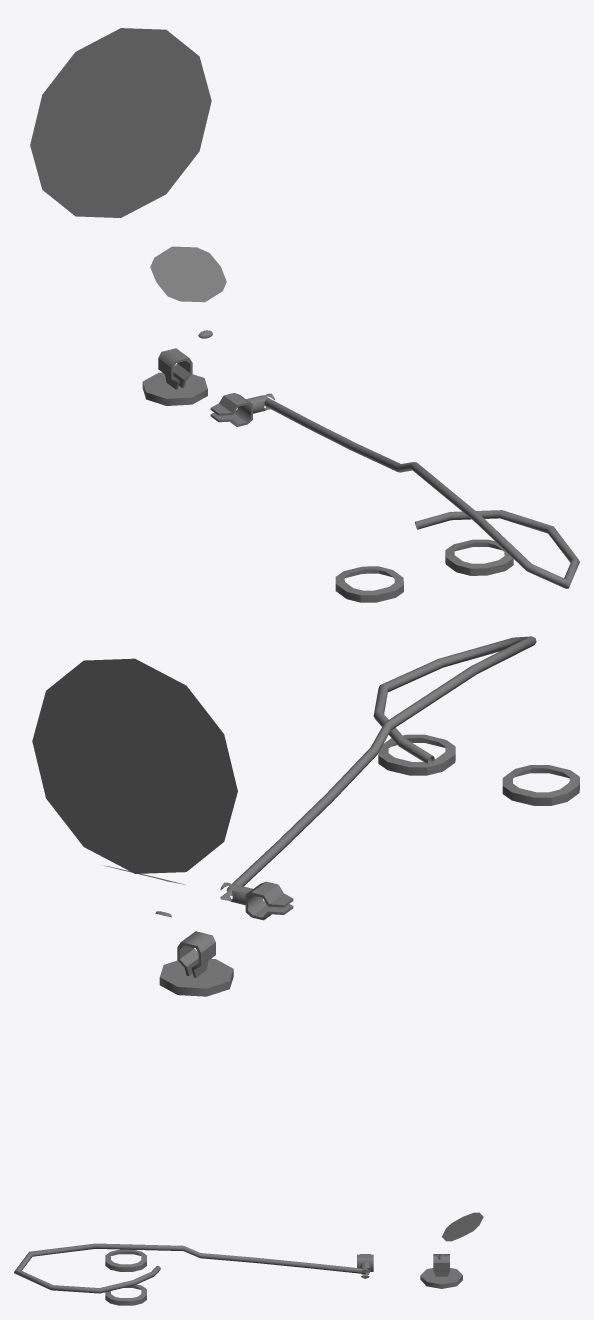
Rendered from Fit_HuaSa_1X6_off.FBX.
3 views of the same model, one above another, from view 1: azimuth 30°, elevation 25°; view 2: azimuth 150°, elevation 25°; view 3: azimuth 270°, elevation 25° (orthographic). The views are drawn at different scales.
Parts seen in each view (by area): view 1: Box002; view 2: Box002; view 3: Box002.
Part boxes in pixels (x1,y1,x2,y2): Box002: [30, 28, 579, 602]; Box002: [32, 636, 579, 996]; Box002: [14, 1212, 483, 1305].
Bounding box in the file's own units: 1.81 × 2.77 × 6.8.
